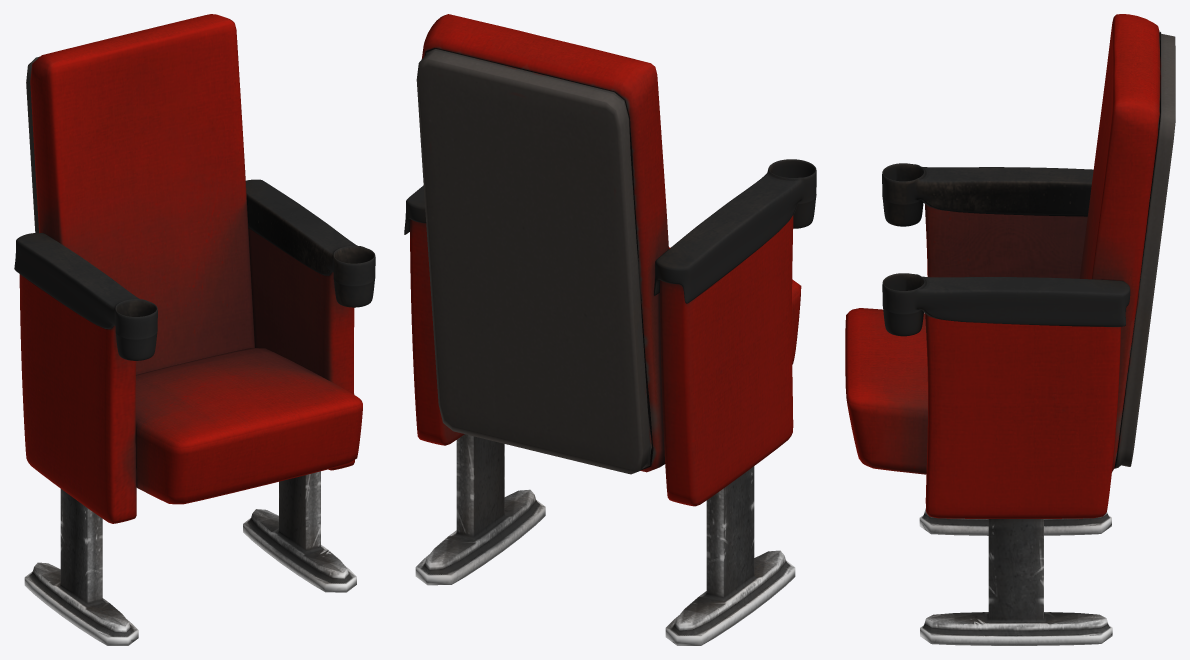
Rendered from butaca-s.glb.
3 renders of one model, left to right at view 1: azimuth 30°, elevation 25°; view 2: azimuth 150°, elevation 25°; view 3: azimuth 270°, elevation 25°, orthographic. The views are drawn at different scales.
Visible parts, largest first — view 1: Object_2, Object_5, Object_4, Object_3; view 2: Object_2, Object_4, Object_5, Object_3; view 3: Object_4, Object_5, Object_2, Object_3.
Boxes of the visible parts, x1=… form: Object_2: x1=26, y1=14, x2=254, y2=374; Object_5: x1=24, y1=348, x2=362, y2=645; Object_4: x1=19, y1=228, x2=354, y2=523; Object_3: x1=14, y1=179, x2=375, y2=360; Object_2: x1=416, y1=14, x2=668, y2=474; Object_4: x1=410, y1=215, x2=793, y2=506; Object_5: x1=415, y1=247, x2=801, y2=645; Object_3: x1=404, y1=159, x2=816, y2=303; Object_4: x1=925, y1=204, x2=1120, y2=518; Object_5: x1=845, y1=308, x2=1112, y2=645; Object_2: x1=1079, y1=14, x2=1175, y2=471; Object_3: x1=882, y1=163, x2=1130, y2=336.
Size of the model in its own units: 1.2 by 2.27 by 1.3.
4 materials, 4 textured.
